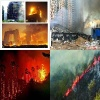fire: (65, 56, 100, 96), (84, 19, 100, 28), (29, 6, 42, 17), (40, 64, 47, 81), (30, 35, 33, 42), (24, 33, 26, 39), (16, 13, 18, 18), (37, 80, 39, 82), (35, 79, 36, 82), (12, 16, 13, 18), (12, 5, 13, 7), (14, 11, 15, 13), (12, 14, 13, 15), (9, 9, 10, 10)
